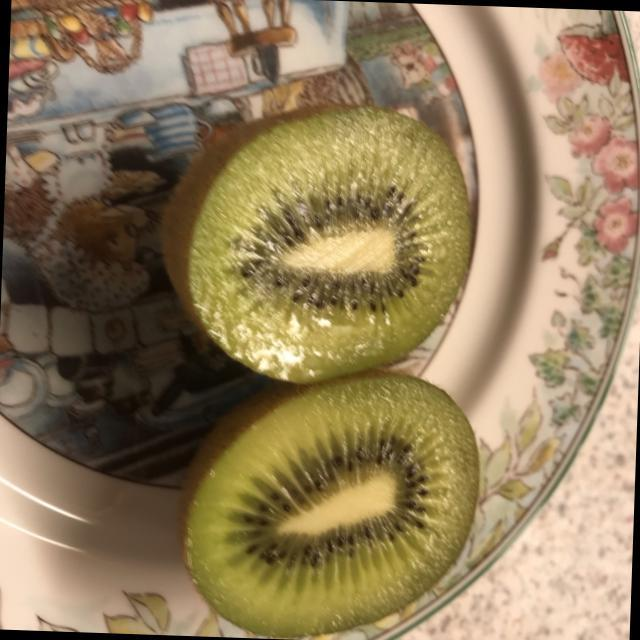Kiwi: (157, 100, 487, 384), (167, 360, 485, 640)
